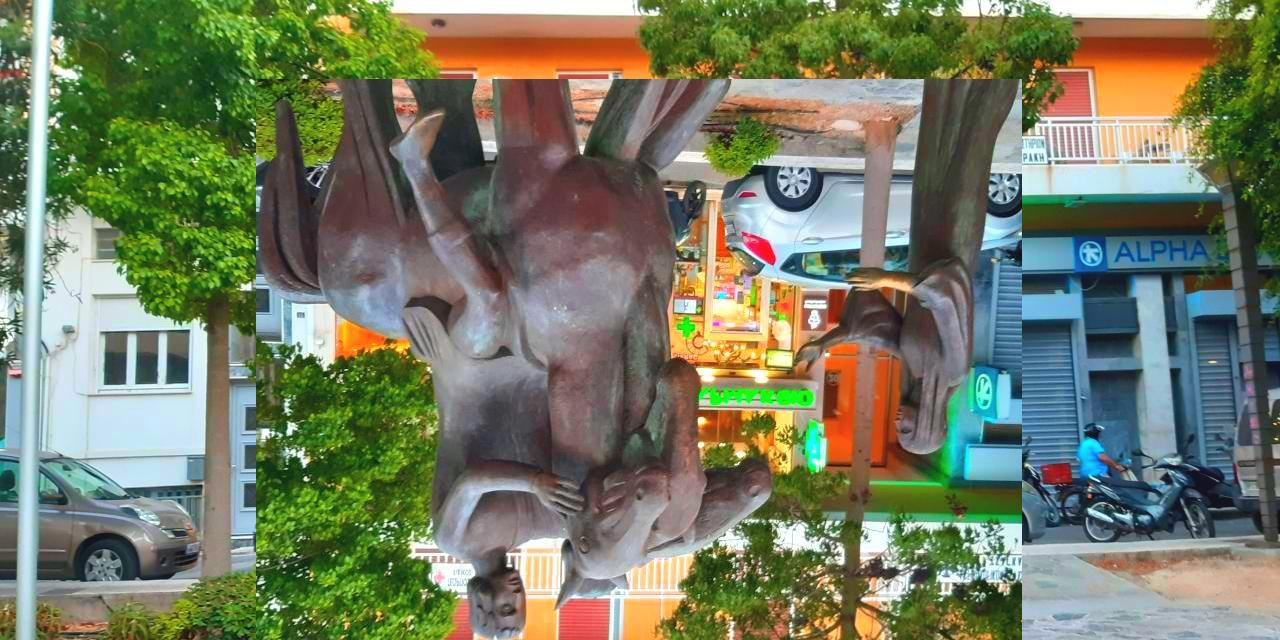Aretousa: (257, 80, 1023, 640)
